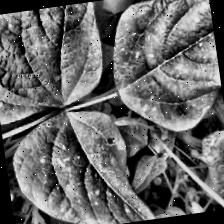Bean Rust: (6, 101, 175, 224), (106, 0, 224, 137), (0, 1, 107, 115), (0, 24, 44, 126)
